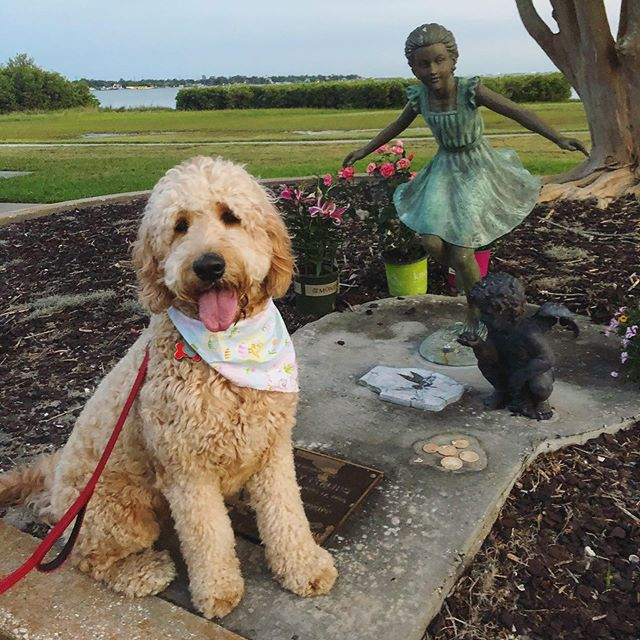animal: (19, 165, 335, 610)
grass: (1, 111, 561, 210)
sky: (1, 1, 621, 69)
